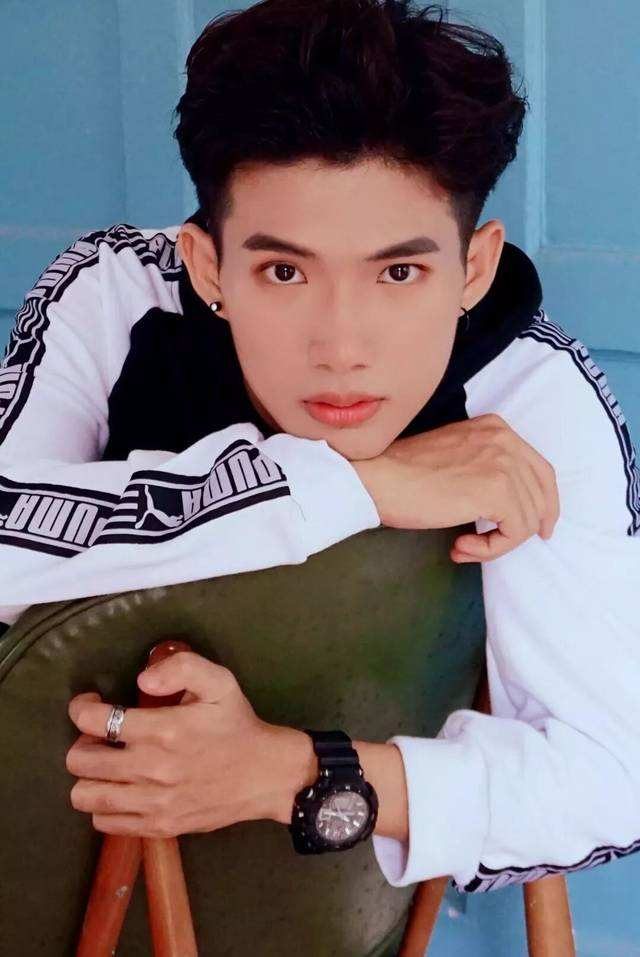person: (46, 23, 586, 895)
